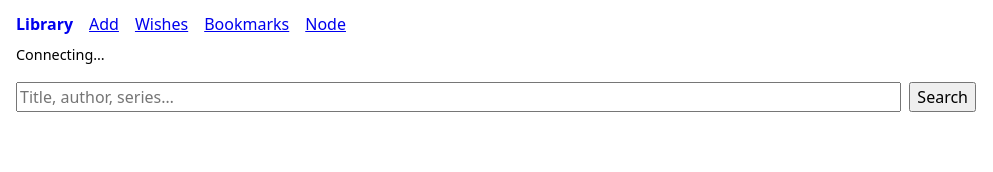
it: the shell › opens the bookmarks from their link
This screenshot has width=993, height=172.
Click the link "Bookmarks": {"x": 247, "y": 24} 204,12 -> 289,36
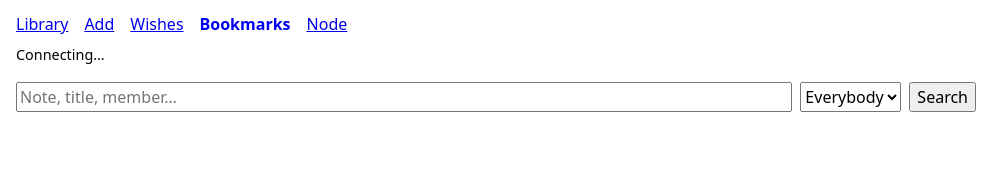
Expected: the link "Bookmarks" is shown, 200,12 -> 290,36
Now the search field named "Search the bookmarks" is shown, box 16,82 -> 792,112
